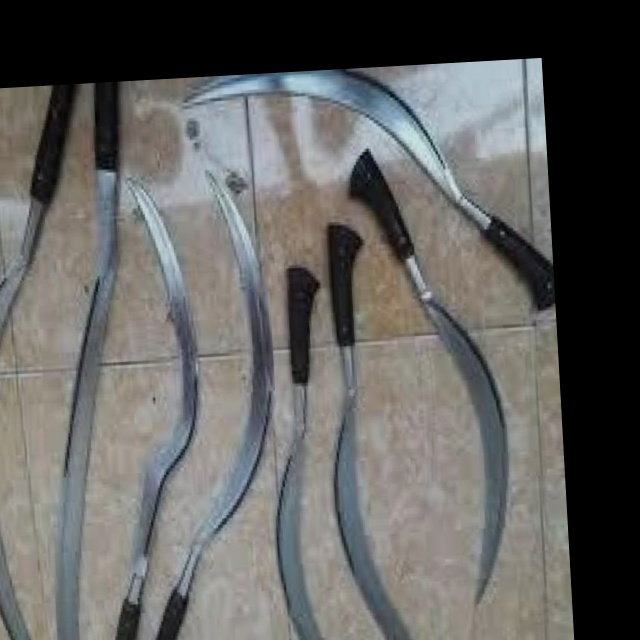Sharp-Object: (168, 64, 555, 320), (349, 139, 526, 631), (159, 154, 292, 640), (77, 195, 217, 640), (0, 84, 104, 640), (313, 210, 441, 640), (256, 237, 335, 640)
